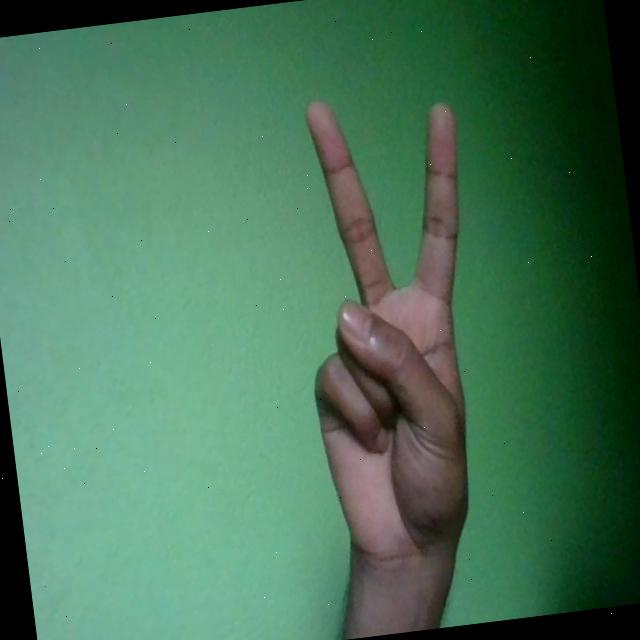Fist: (277, 82, 509, 578)
